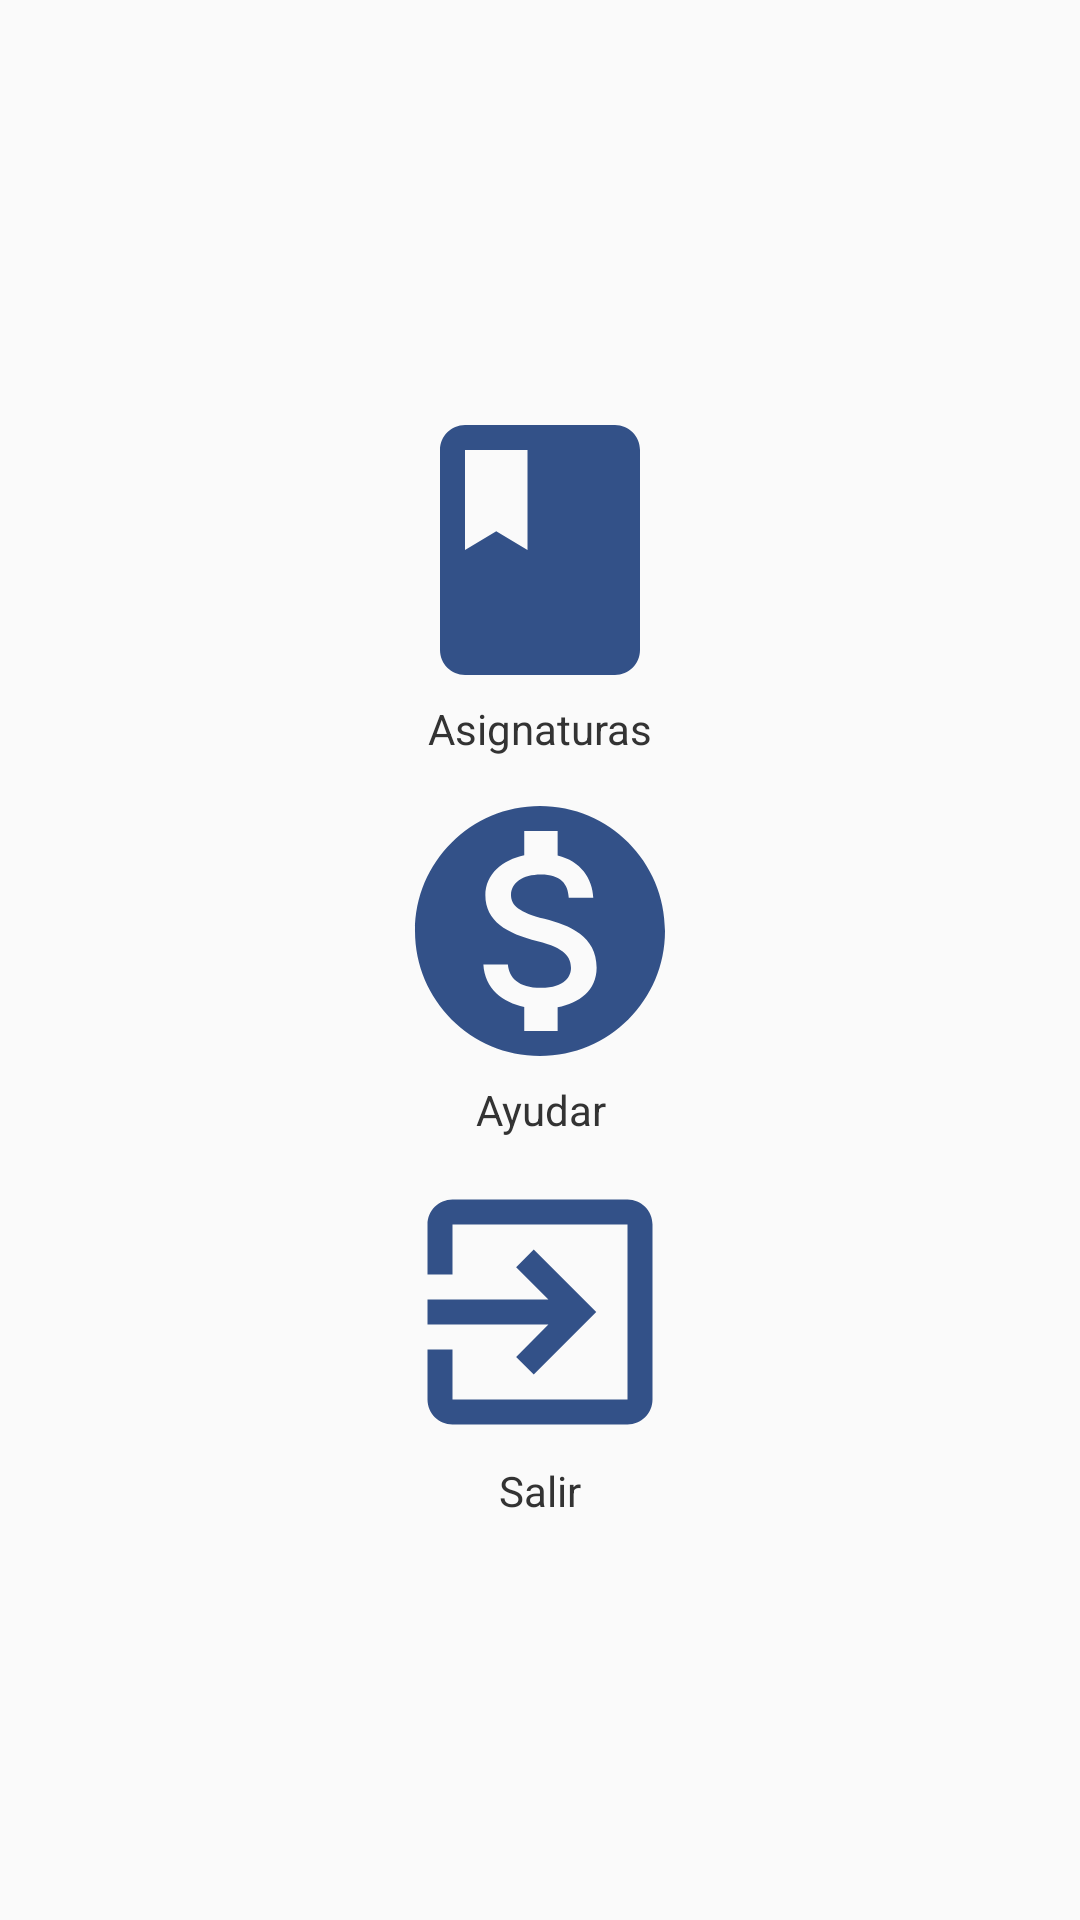

Icon bounding boxes for this 1080px x 1920px phone screenshot, format (x1, y1, x2, y2):
monetization: (415, 806, 665, 1056)
